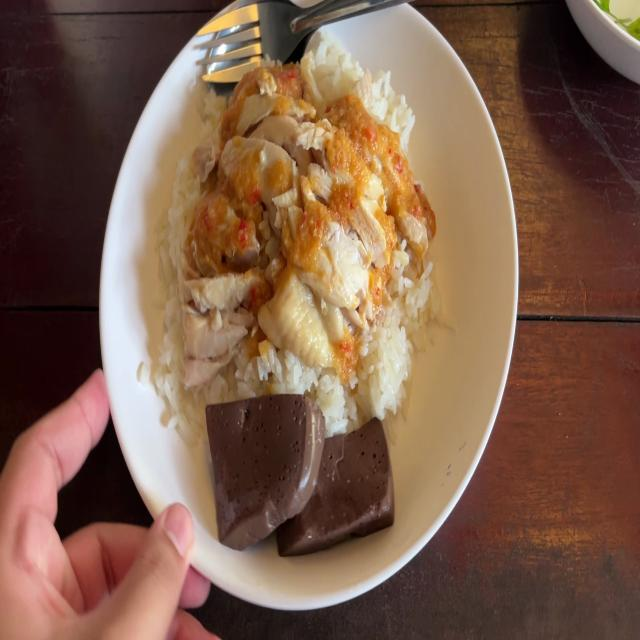chicken_rice: (207, 73, 384, 383)
noodle: (203, 387, 324, 537), (283, 419, 392, 547)
